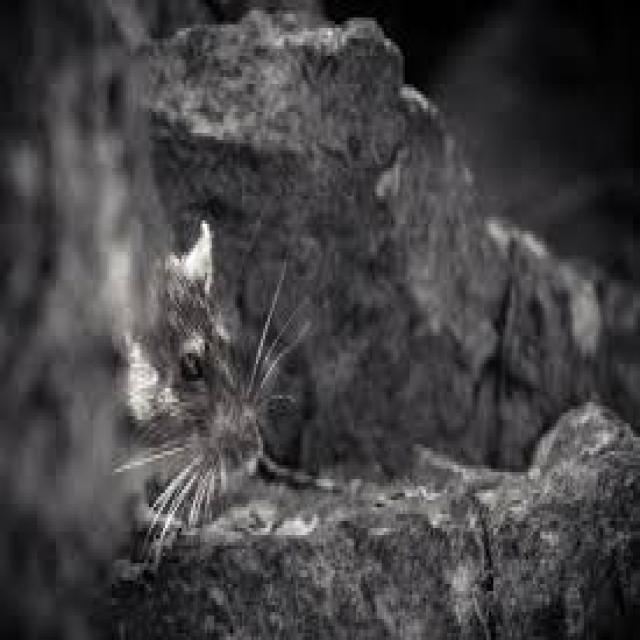rat: (98, 7, 638, 563), (110, 213, 330, 563)
